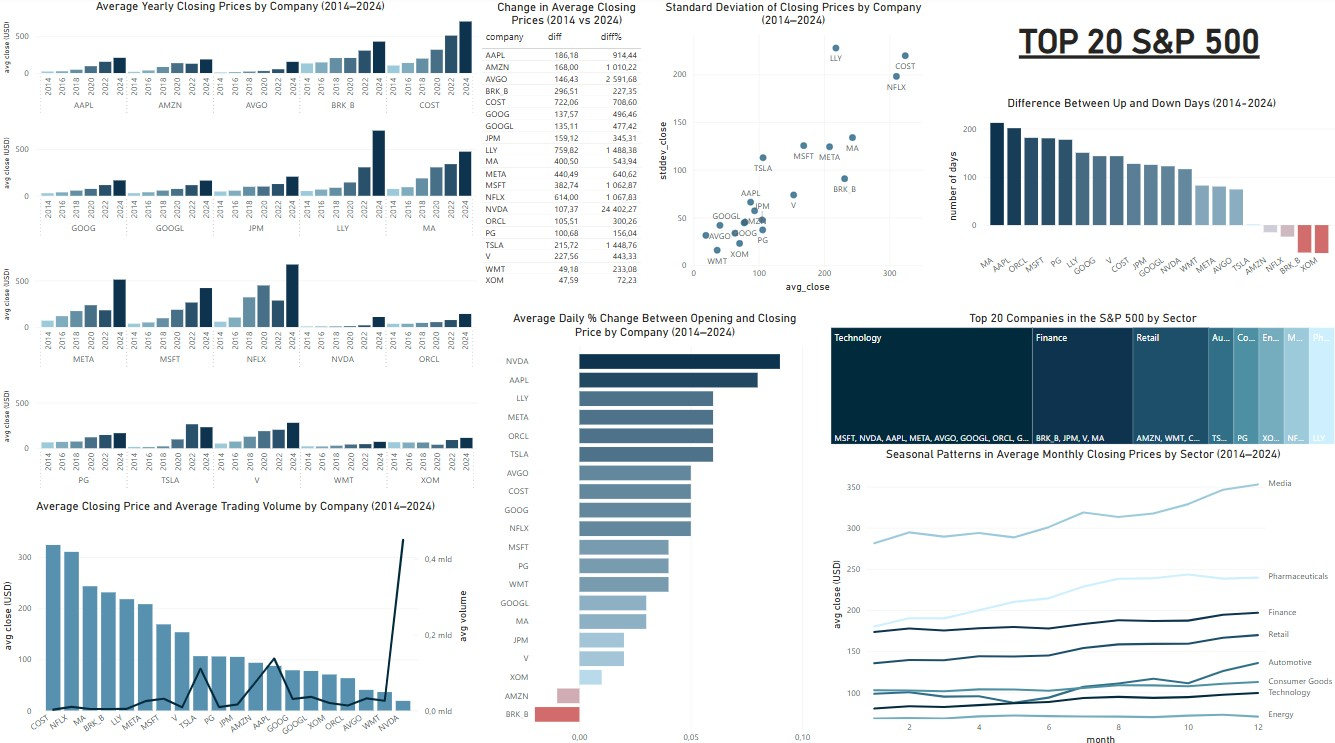

Layout of this report page (visuals, bound fields, positions):
{"tool":"powerbi","page":{"name":"dashboard_top20_sp500","canvas":[1920,1080],"ordinal":0},"visuals":[{"type":"lineClusteredColumnComboChart","title":"Average Closing Price and Average Trading Volume by Company (2014–2024)","fields":{"Category":["public vw_avg_prices_and_volume_per_company.company_symbol"],"Y":["Sum(public vw_avg_prices_and_volume_per_company.avg_close)"],"Y2":["Sum(public vw_avg_prices_and_volume_per_company.avg_volume)"]},"box":[0,720.3,677.3,360.1],"z":0},{"type":"clusteredBarChart","title":"Average Daily % Change Between Opening and Closing Price by Company (2014–2024)","fields":{"Category":["public vw_avg_daily_return_per_company.company_symbol"],"Y":["Sum(public vw_avg_daily_return_per_company.avg_daily_diff)"]},"box":[710.9,451.6,457.2,628.8],"z":1000},{"type":"clusteredColumnChart","title":"Average Yearly Closing Prices by Company (2014–2024)","fields":{"Category":["public vw_avg_yearly_close_per_company.company_symbol","public vw_avg_yearly_close_per_company.year"],"Y":["Sum(public vw_avg_yearly_close_per_company.avg_close)"]},"box":[0,3.8,691,175],"z":2000},{"type":"clusteredColumnChart","title":"Average Yearly Closing Prices by Company (2014–2024)","fields":{"Category":["public vw_avg_yearly_close_per_company.company_symbol","public vw_avg_yearly_close_per_company.year"],"Y":["Sum(public vw_avg_yearly_close_per_company.avg_close)"]},"box":[0,179.2,690.4,175.4],"z":3000},{"type":"clusteredColumnChart","title":"Average Yearly Closing Prices by Company (2014–2024)","fields":{"Category":["public vw_avg_yearly_close_per_company.company_symbol","public vw_avg_yearly_close_per_company.year"],"Y":["Sum(public vw_avg_yearly_close_per_company.avg_close)"]},"box":[0,367.6,690.4,175.4],"z":4000},{"type":"clusteredColumnChart","title":"Average Yearly Closing Prices by Company (2014–2024)","fields":{"Category":["public vw_avg_yearly_close_per_company.company_symbol","public vw_avg_yearly_close_per_company.year"],"Y":["Sum(public vw_avg_yearly_close_per_company.avg_close)"]},"box":[0,543,692.3,173.5],"z":5000},{"type":"tableEx","title":"Change in Average Closing Prices (2014 vs 2024)","fields":{"Values":["public vw_avg_yearly_close_per_company_pivot.company","public vw_avg_yearly_close_per_company_pivot.avg_2024-avg_2014","public vw_avg_yearly_close_per_company_pivot.%avg_2024-avg_2014"]},"box":[686.2,5,254.4,424.6],"z":6000},{"type":"textbox","box":[1401.3,31.7,466.5,65.3],"z":7000},{"type":"scatterChart","title":"Standard Deviation of Closing Prices by Company (2014–2024)","fields":{"X":["Sum(public vw_stddev_close_per_company.avg_close)"],"Y":["Sum(public vw_stddev_close_per_company.stddev_close)"],"Series":["public vw_stddev_close_per_company.company_symbol"]},"box":[938.8,5,399.5,424.6],"z":8000},{"type":"clusteredColumnChart","title":"Difference Between Up and Down Days (2014-2024)","fields":{"Category":["public vw_daily_change_direction_per_company.company_symbol"],"Y":["Sum(public vw_daily_change_direction_per_company.difference_up_down)"]},"box":[1354.5,143.3,566.2,281.3],"z":9000},{"type":"lineChart","title":"Seasonal Patterns in Average Monthly Closing Prices by Sector (2014–2024)","fields":{"Category":["user_avg_monthly_close_per_sector.month"],"Y":["Avg(user_avg_monthly_close_per_sector.avg_close)"],"Series":["user_avg_monthly_close_per_sector.public _companies.sector"]},"box":[1188.6,647.5,731.4,432.9],"z":10000},{"type":"treemap","title":"Top 20 Companies in the S&P 500 by Sector","fields":{"Group":["public vw_sector_segmentation.sector"],"Details":["public vw_sector_segmentation.company_symbols"],"Values":["Sum(public vw_sector_segmentation.company_count)"]},"box":[1188.6,451.6,731.4,195.9],"z":11000}]}

Visuals, with their boxes in screenshot pixels (x1, y1, x2, y2), scaled from the page's 1920x1080 canvas onto the 1335x743 screenshot:
"Average Closing Price and Average Trading Volume by Company (2014–2024)" lineClusteredColumnComboChart: bbox=[0, 496, 471, 742]
"Average Daily % Change Between Opening and Closing Price by Company (2014–2024)" clusteredBarChart: bbox=[494, 311, 812, 742]
"Average Yearly Closing Prices by Company (2014–2024)" clusteredColumnChart: bbox=[0, 3, 480, 123]
"Average Yearly Closing Prices by Company (2014–2024)" clusteredColumnChart: bbox=[0, 123, 480, 244]
"Average Yearly Closing Prices by Company (2014–2024)" clusteredColumnChart: bbox=[0, 253, 480, 374]
"Average Yearly Closing Prices by Company (2014–2024)" clusteredColumnChart: bbox=[0, 374, 481, 493]
"Change in Average Closing Prices (2014 vs 2024)" tableEx: bbox=[477, 3, 654, 296]
textbox: bbox=[974, 22, 1299, 67]
"Standard Deviation of Closing Prices by Company (2014–2024)" scatterChart: bbox=[653, 3, 931, 296]
"Difference Between Up and Down Days (2014-2024)" clusteredColumnChart: bbox=[942, 99, 1334, 292]
"Seasonal Patterns in Average Monthly Closing Prices by Sector (2014–2024)" lineChart: bbox=[826, 445, 1334, 742]
"Top 20 Companies in the S&P 500 by Sector" treemap: bbox=[826, 311, 1334, 445]
